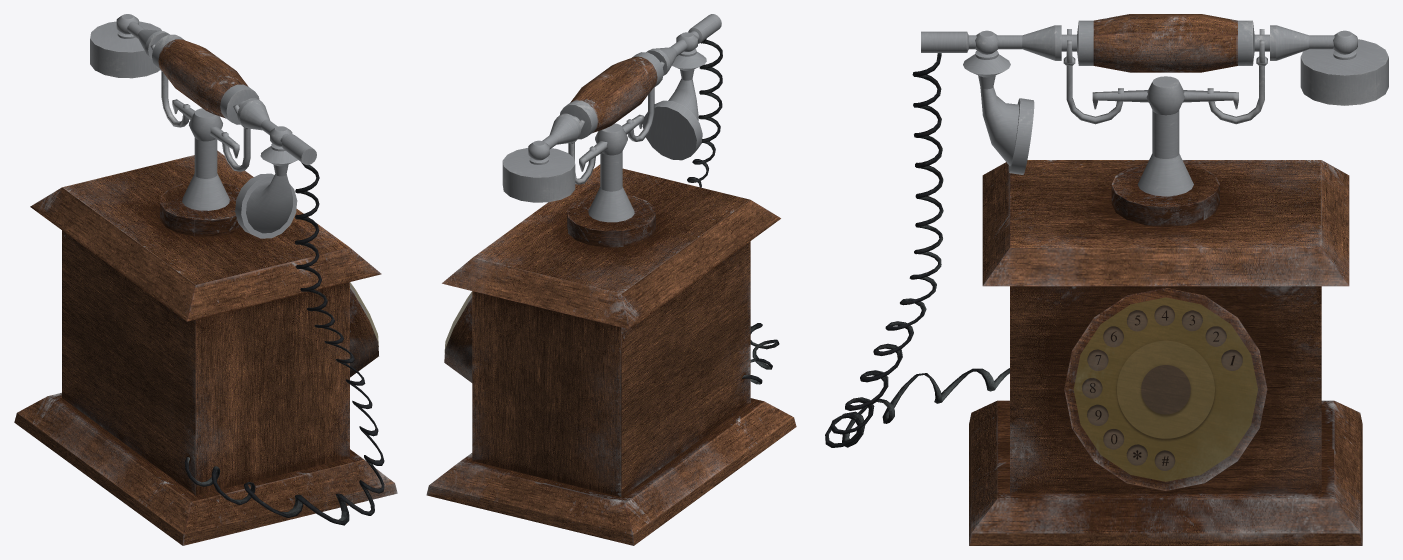
The model's file is tele.fbx.
The picture shows the model from 3 angles, left to right: view 1: azimuth 30°, elevation 25°; view 2: azimuth 150°, elevation 25°; view 3: azimuth 270°, elevation 25°; orthographic projection. The views are drawn at different scales.
Parts seen in each view (by area): view 1: S_Telephone; view 2: S_Telephone; view 3: S_Telephone.
Boxes of the visible parts, x1,y1,x2,y2 form: S_Telephone: (14, 14, 397, 545); S_Telephone: (426, 14, 796, 545); S_Telephone: (825, 14, 1388, 545).
Bounding box in the file's own units: 33.81 × 49.68 × 54.25.
